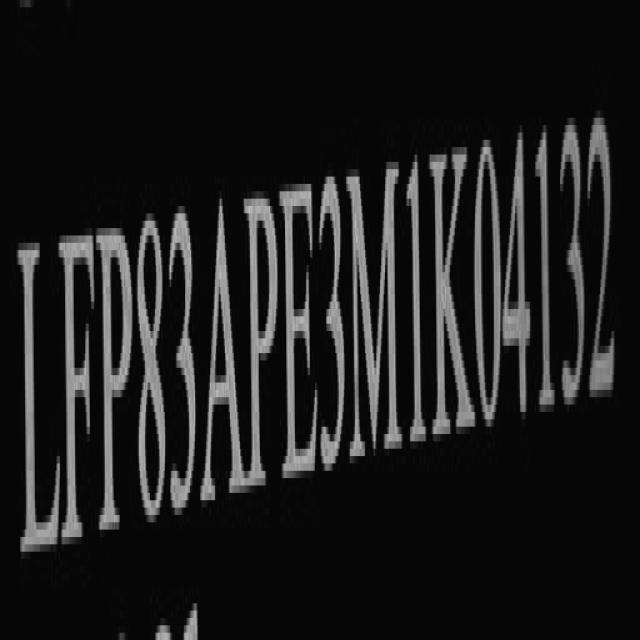0: (472, 131, 500, 443)
1: (408, 148, 427, 462), (536, 122, 552, 428)
2: (590, 108, 618, 413)
3: (172, 206, 200, 524), (558, 115, 583, 420), (321, 174, 345, 485)
4: (504, 118, 530, 430)
8: (135, 210, 164, 534)
A: (208, 197, 241, 515)
E: (287, 175, 318, 493)
F: (64, 222, 95, 560)
K: (432, 134, 475, 446)
L: (18, 231, 59, 568)
M: (349, 162, 403, 470)
P: (101, 220, 133, 544), (250, 185, 280, 504)
